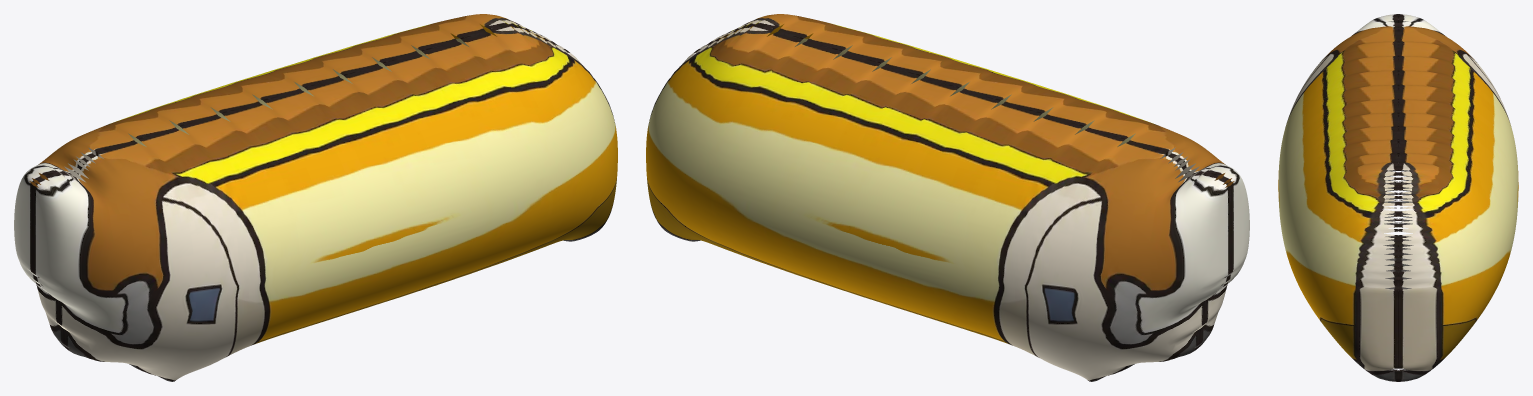
File: power_module.glb
3 renders of one model, left to right at view 1: azimuth 30°, elevation 25°; view 2: azimuth 150°, elevation 25°; view 3: azimuth 270°, elevation 25°, orthographic. The views are drawn at different scales.
Parts seen in each view (by area): view 1: power_module; view 2: power_module; view 3: power_module.
Boxes of the visible parts, left/top/right/bottom form: power_module: left=14, top=14, right=617, bottom=381; power_module: left=646, top=14, right=1249, bottom=381; power_module: left=1278, top=14, right=1518, bottom=381.
Size of the model in its own units: 0.989 by 0.4216 by 0.4417.
Materials: 1 (1 with a texture image).
